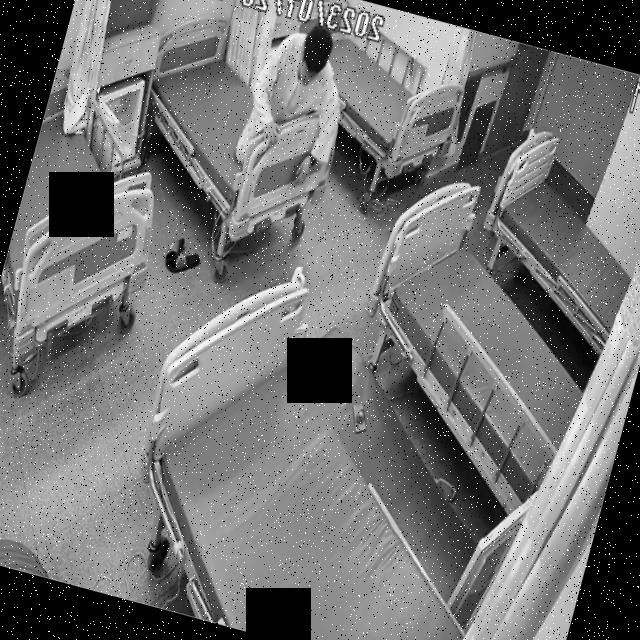bed: (109, 264, 540, 640), (329, 172, 632, 516), (0, 65, 188, 383), (123, 12, 360, 238), (460, 122, 640, 353), (267, 2, 472, 187)
danger: (231, 14, 362, 192)
patient: (232, 12, 362, 192)
